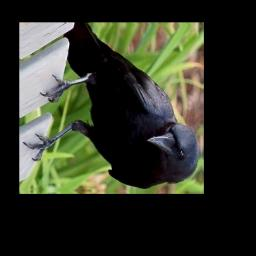Crow: (22, 23, 200, 191)
